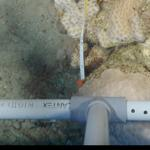dead: (1, 1, 148, 144)
